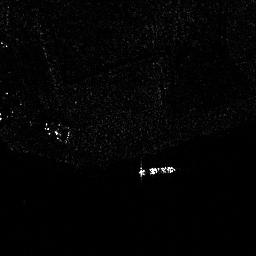ship: (135, 164, 177, 178)
